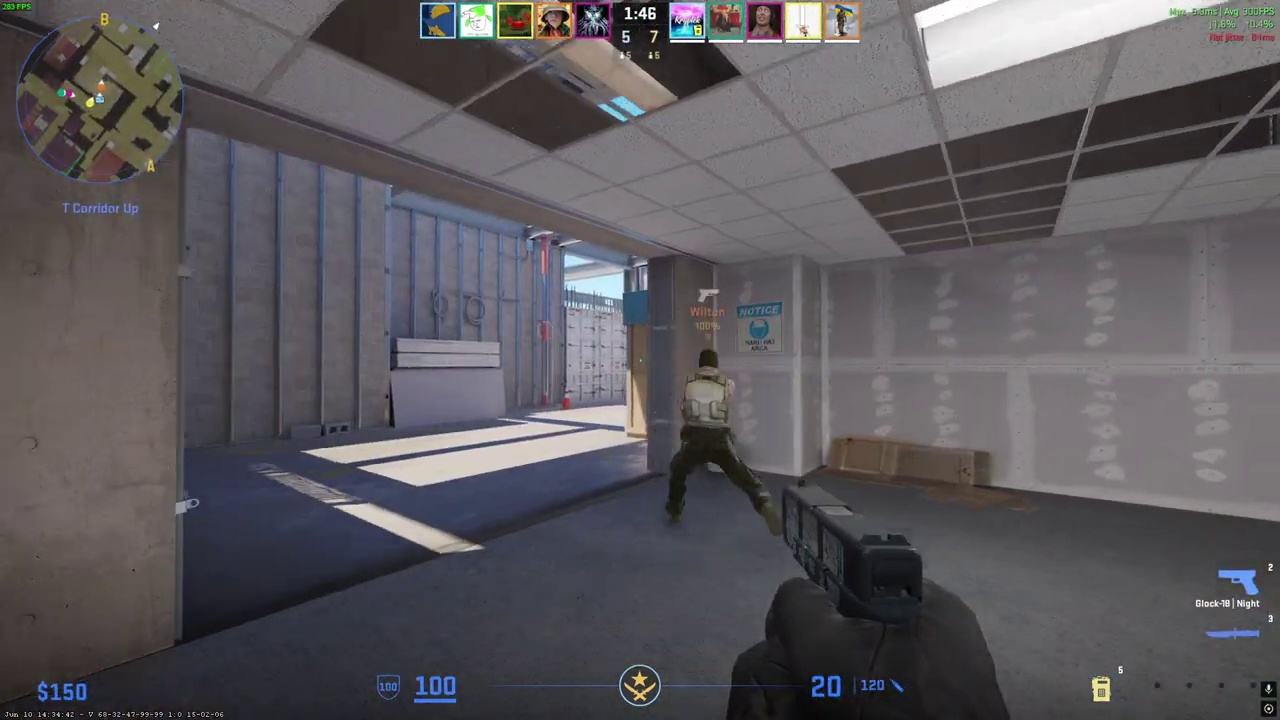Terrorist: (664, 348, 768, 540)
